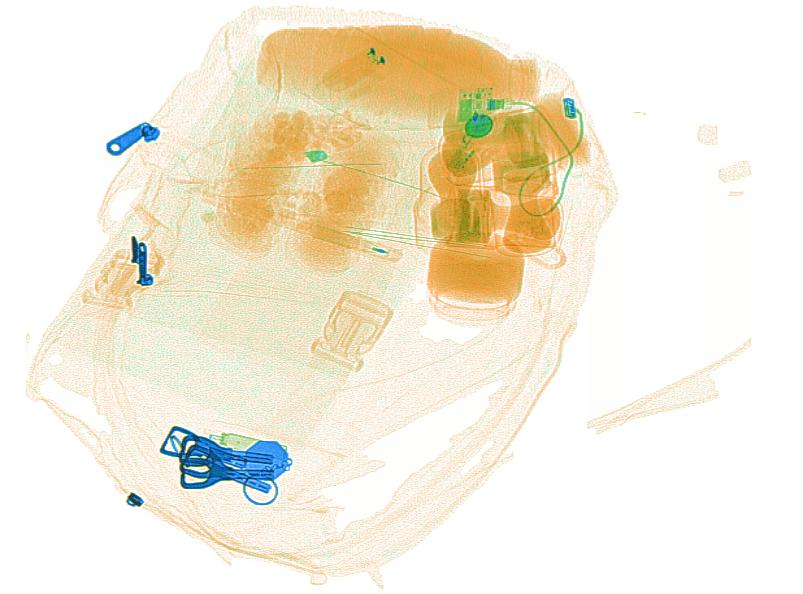seal: (412, 143, 495, 251), (435, 107, 551, 179), (441, 184, 566, 247), (493, 145, 556, 253)
